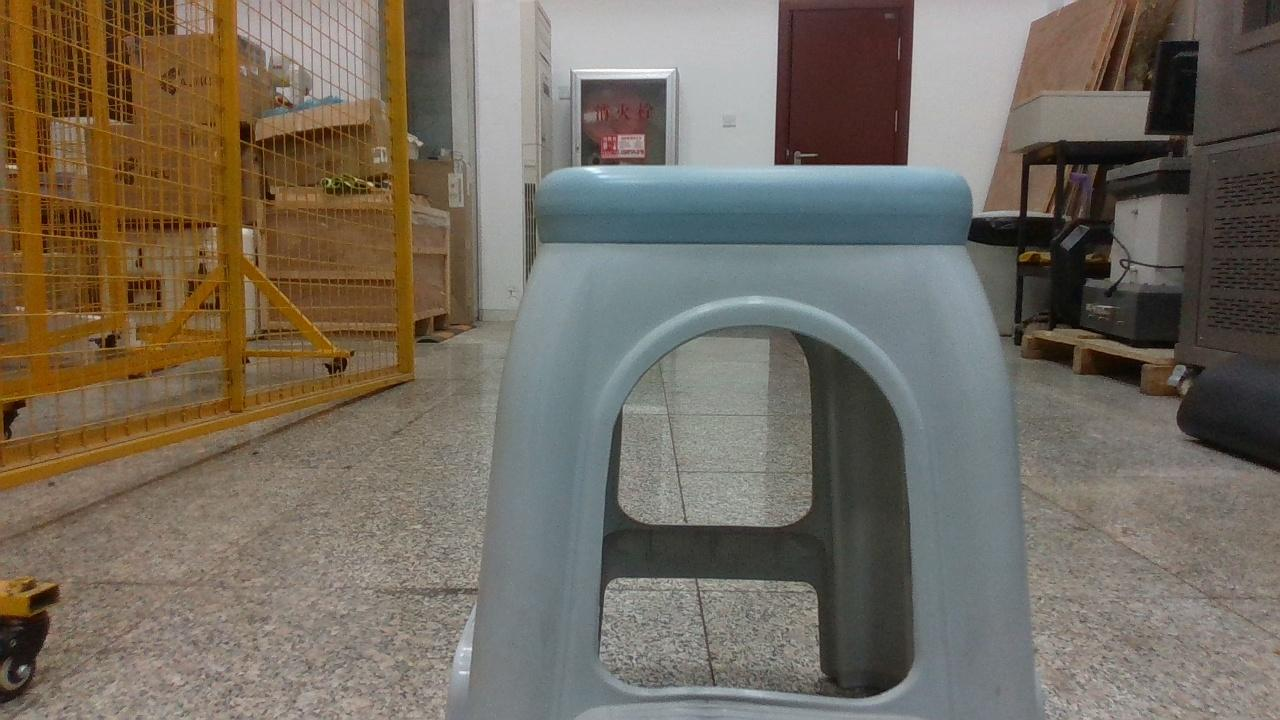stool: (450, 165, 1042, 718)
